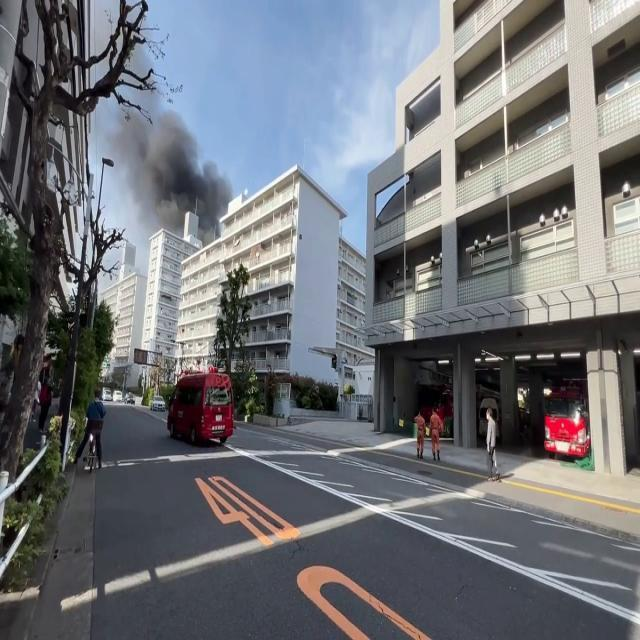Smoke: (114, 90, 228, 225)
